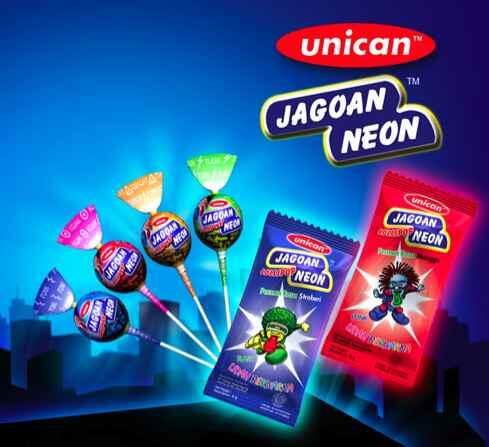jagoan_neon: (204, 211, 360, 426), (323, 174, 476, 386)
